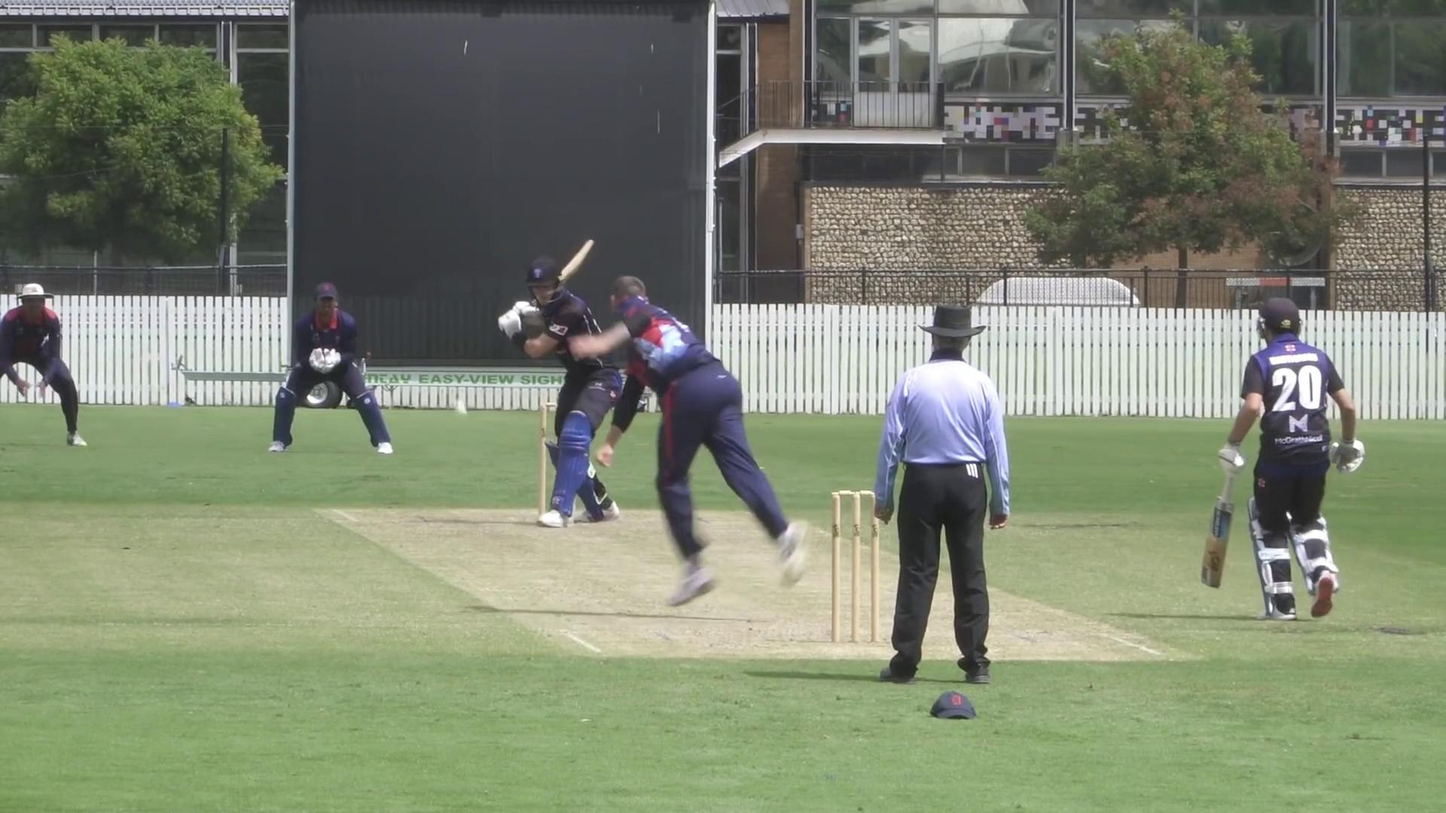ball: (449, 397, 475, 421)
